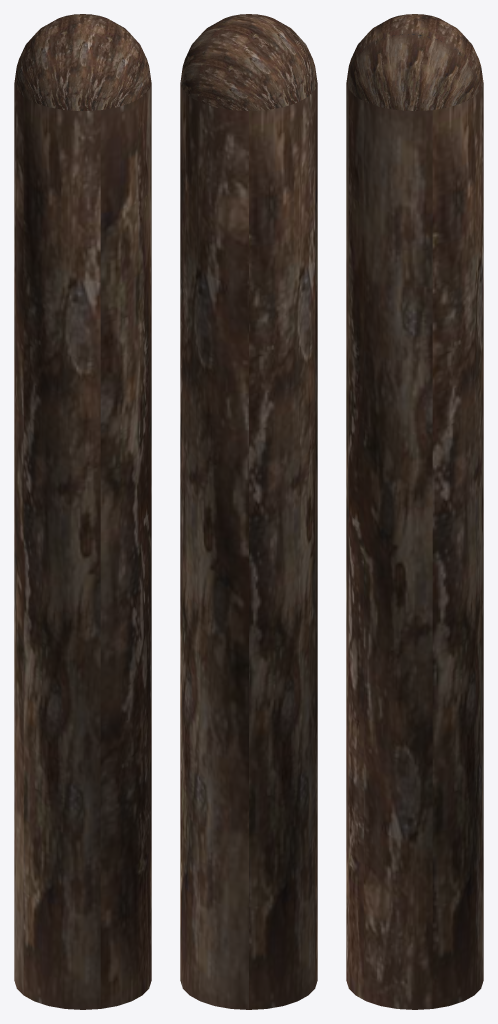
Rendered from Amazonie_Levier.fbx.
The picture shows the model from 3 angles, left to right: view 1: azimuth 90°, elevation 25°; view 2: azimuth 150°, elevation 25°; view 3: azimuth 270°, elevation 25°; orthographic projection.
Parts seen in each view (by area): view 1: Sphere; view 2: Sphere; view 3: Sphere.
Boxes of the visible parts, x1=… form: Sphere: x1=14, y1=14, x2=151, y2=1009; Sphere: x1=180, y1=14, x2=317, y2=1009; Sphere: x1=346, y1=14, x2=483, y2=1009.
Size of the model in its own units: 38.25 by 296 by 38.25.
